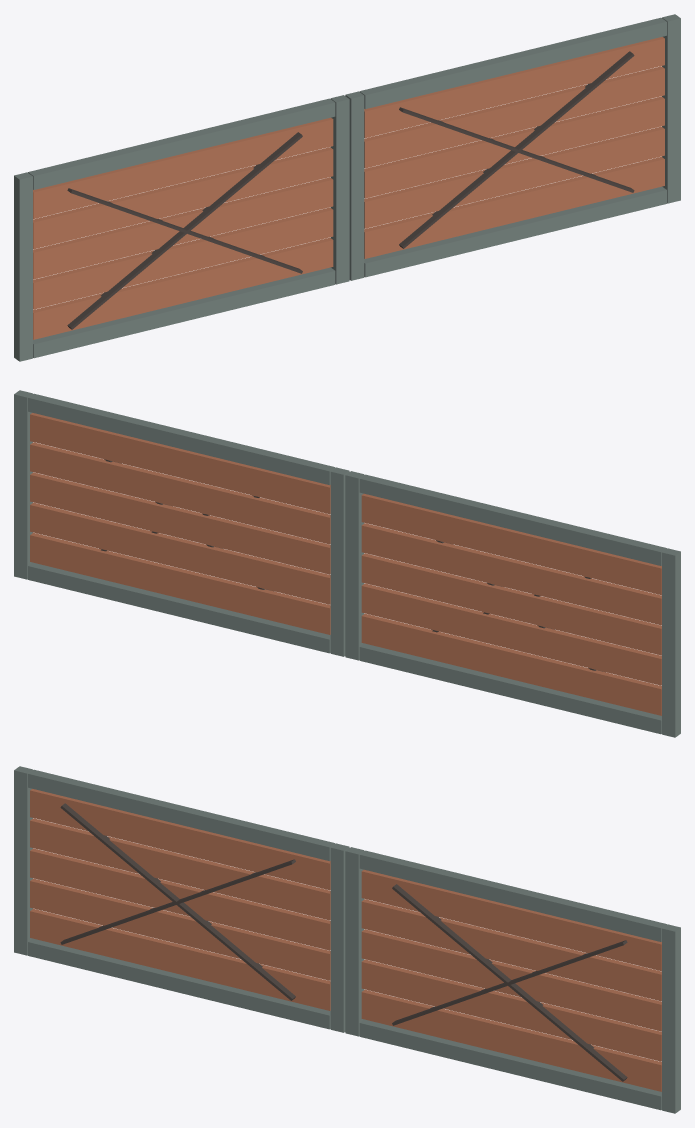
File: SM_PuertaVehiculos_v2_Tablones_e0_Sano_LOD1.fbx
3 views of the same model, one above another, from view 1: azimuth 30°, elevation 25°; view 2: azimuth 150°, elevation 25°; view 3: azimuth 330°, elevation 25° (orthographic).
Parts seen in each view (by area): view 1: Hoja_O, Hoja_E; view 2: Hoja_O, Hoja_E; view 3: Hoja_E, Hoja_O.
Boxes of the visible parts, x1,y1,x2,y2 form: Hoja_O: [14, 95, 349, 361]; Hoja_E: [345, 14, 680, 280]; Hoja_O: [345, 471, 680, 737]; Hoja_E: [14, 390, 349, 656]; Hoja_E: [345, 847, 680, 1113]; Hoja_O: [14, 766, 349, 1032].
Size of what is drawn, in the model's own units: 7.98 by 2.1 by 0.17.
